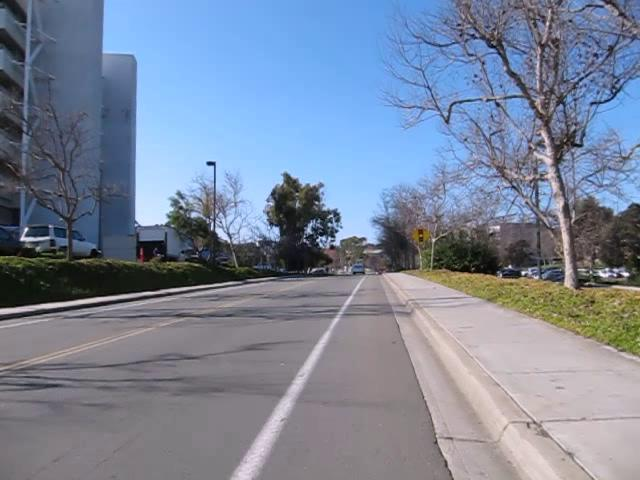signalAhead: (409, 224, 432, 246)
